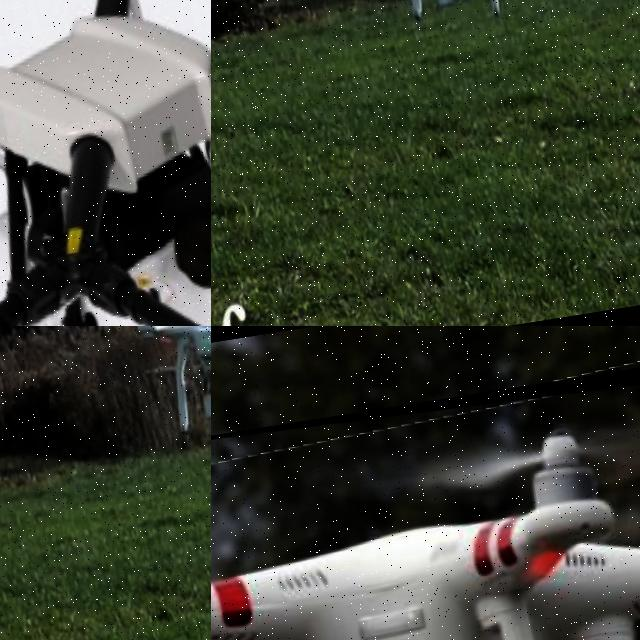drone: (211, 355, 640, 640), (0, 0, 211, 326)
